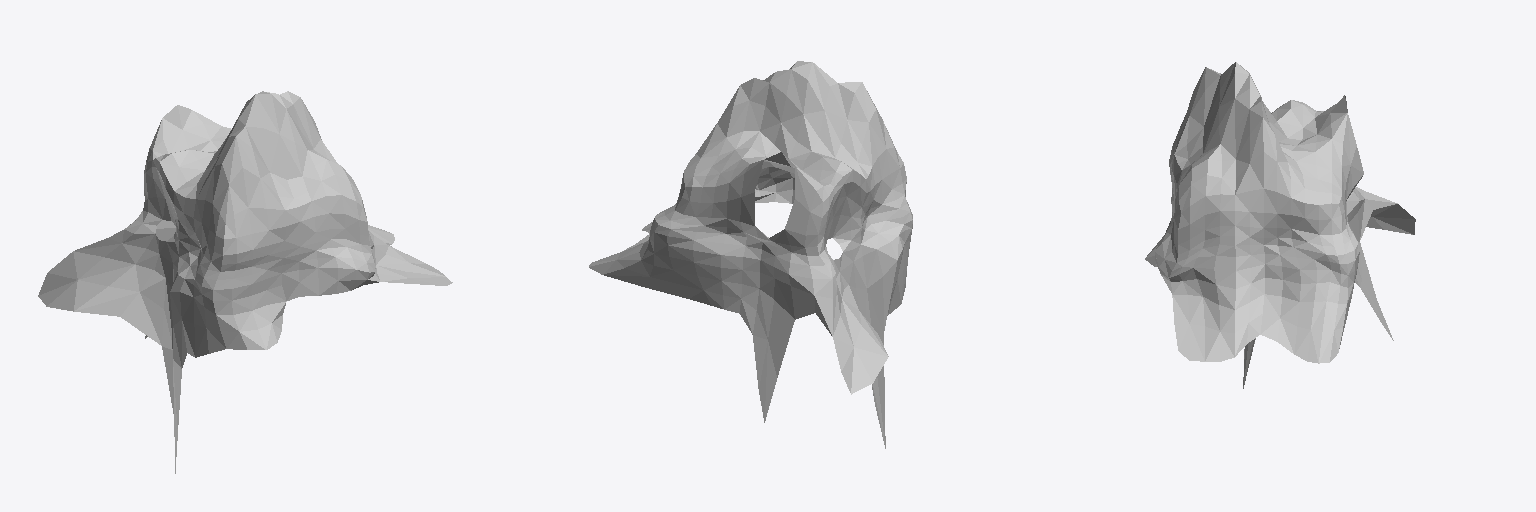
The model's file is СКАуцЛА.obj.
The picture shows the model from 3 angles: view 1: azimuth 30°, elevation 25°; view 2: azimuth 150°, elevation 25°; view 3: azimuth 270°, elevation 25°; orthographic projection.
Visible parts, largest first — view 1: Cube; view 2: Cube; view 3: Cube.
Boxes of the visible parts, <box> form: Cube: <box>38,91,452,473</box>; Cube: <box>589,61,912,448</box>; Cube: <box>1145,62,1415,388</box>.
Bounding box in the file's own units: 4.26 × 4.75 × 3.18.